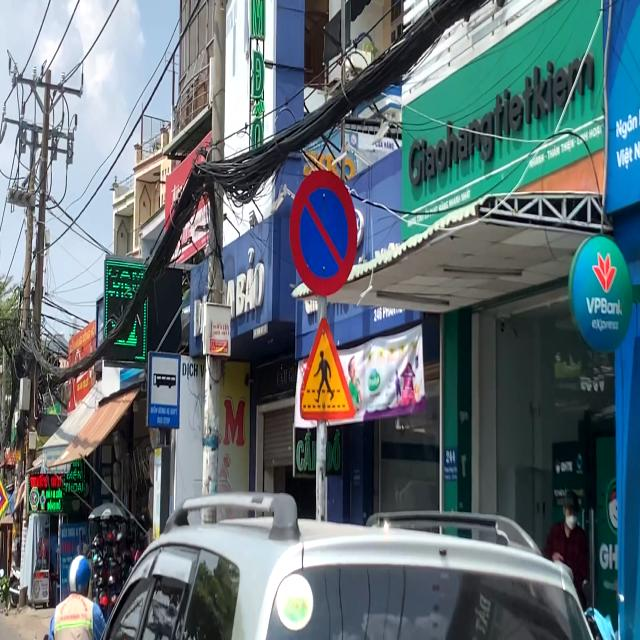P.131a: (288, 169, 358, 296)
R.434: (147, 349, 180, 430)
W.224: (297, 316, 356, 420)
